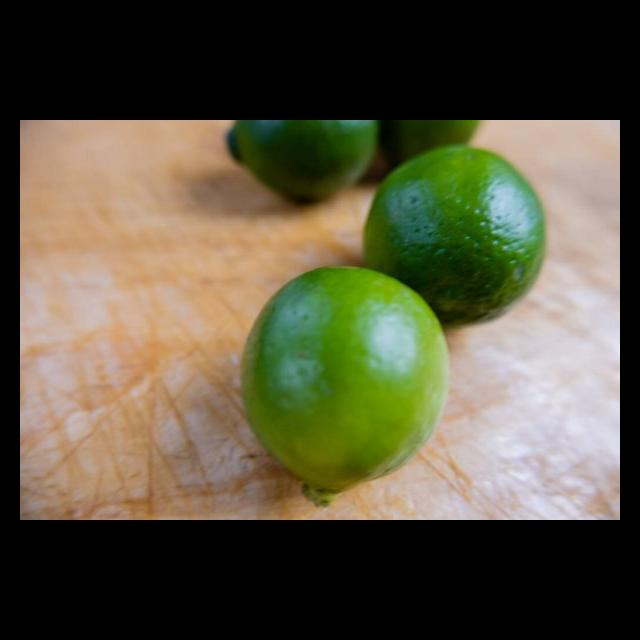lime: (235, 258, 455, 510), (355, 138, 551, 334), (217, 121, 386, 213), (361, 120, 491, 174)
